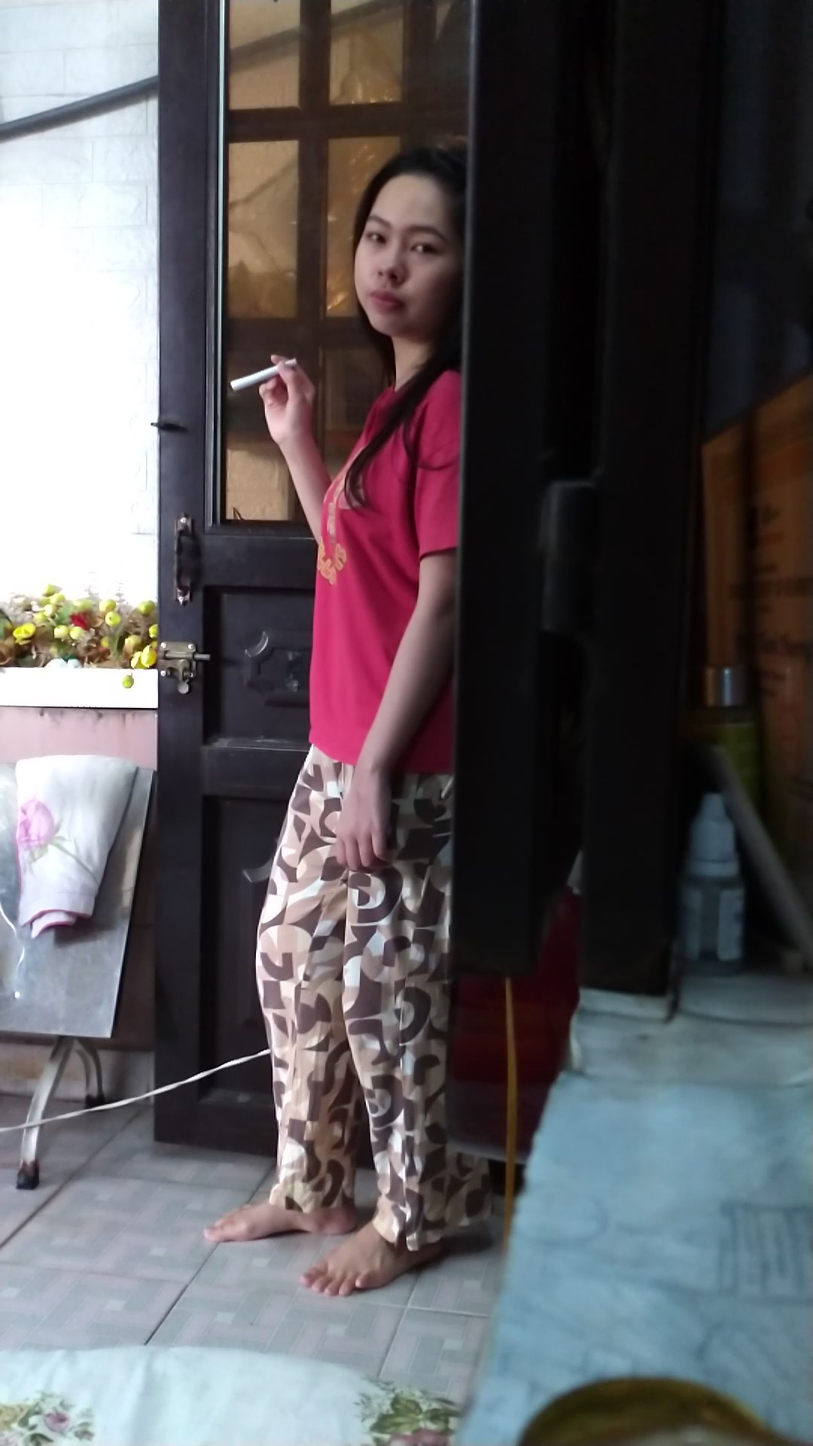cigarette: (226, 361, 279, 395)
person: (242, 81, 467, 1338)
